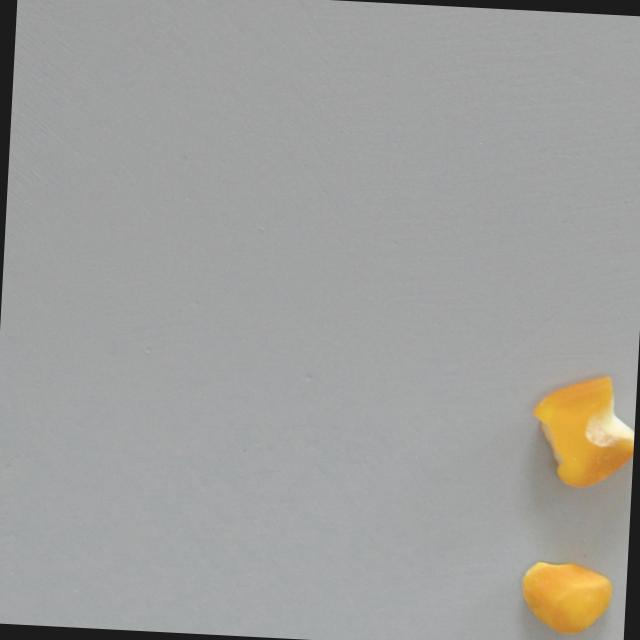estandar: (519, 560, 615, 638)
no_canjicado: (530, 374, 637, 491)
